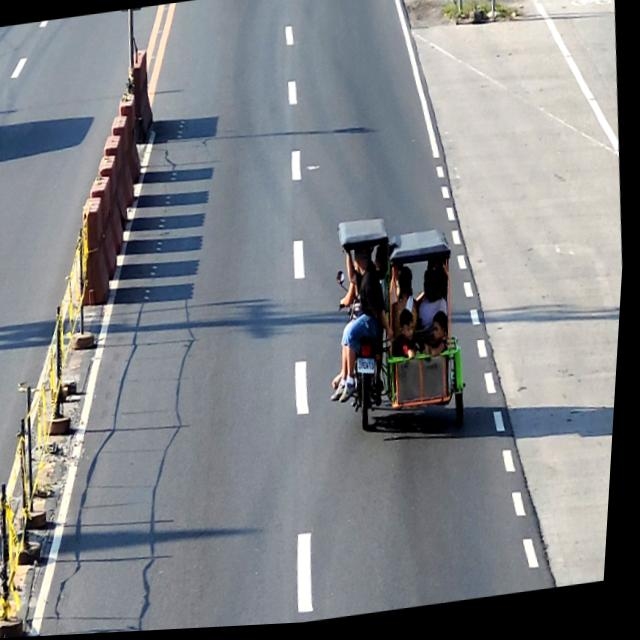License-Plate: (359, 359, 381, 380)
Tricycle: (328, 210, 481, 452)
